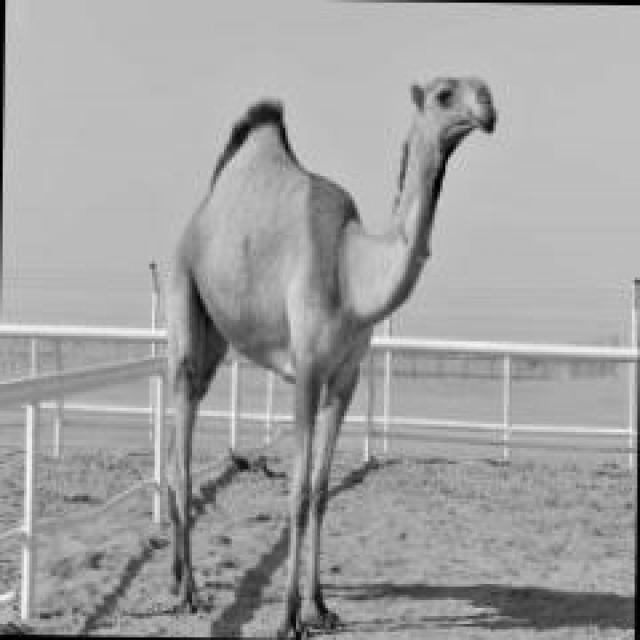Camel: (160, 72, 496, 637)
